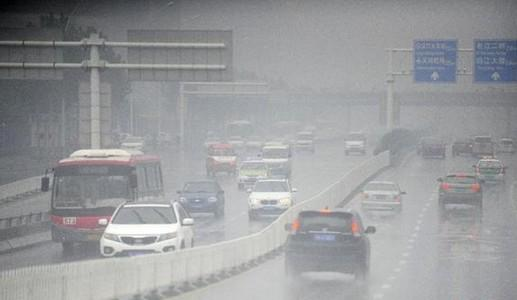bus: (41, 148, 167, 251), (226, 120, 255, 150), (312, 117, 338, 144)
car: (284, 205, 376, 283), (98, 199, 195, 263), (246, 175, 297, 221), (176, 178, 225, 218), (436, 171, 486, 210), (360, 181, 406, 214), (257, 144, 292, 179), (205, 143, 238, 177), (235, 160, 272, 189), (472, 159, 509, 185), (419, 137, 448, 159), (469, 136, 496, 159), (344, 130, 367, 155), (295, 131, 315, 154), (119, 136, 146, 153), (452, 139, 474, 157), (495, 138, 516, 154), (204, 136, 225, 151), (246, 135, 264, 151), (226, 135, 244, 150), (415, 137, 430, 154)
